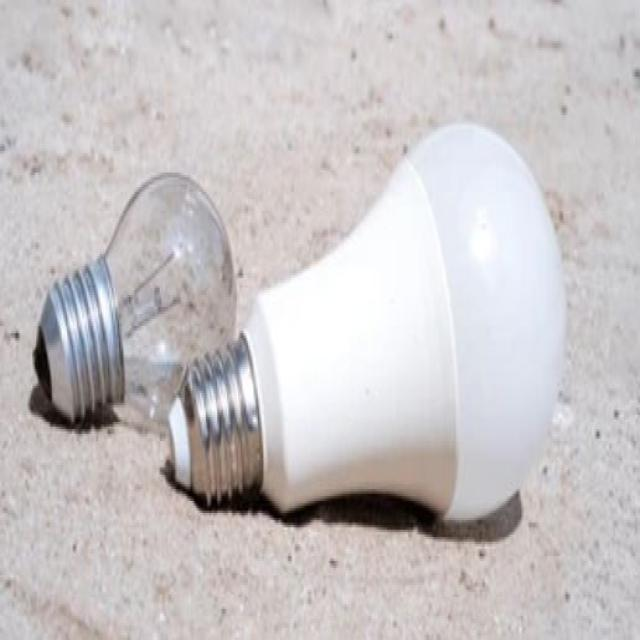electronic: (166, 118, 567, 522), (31, 168, 237, 429)
